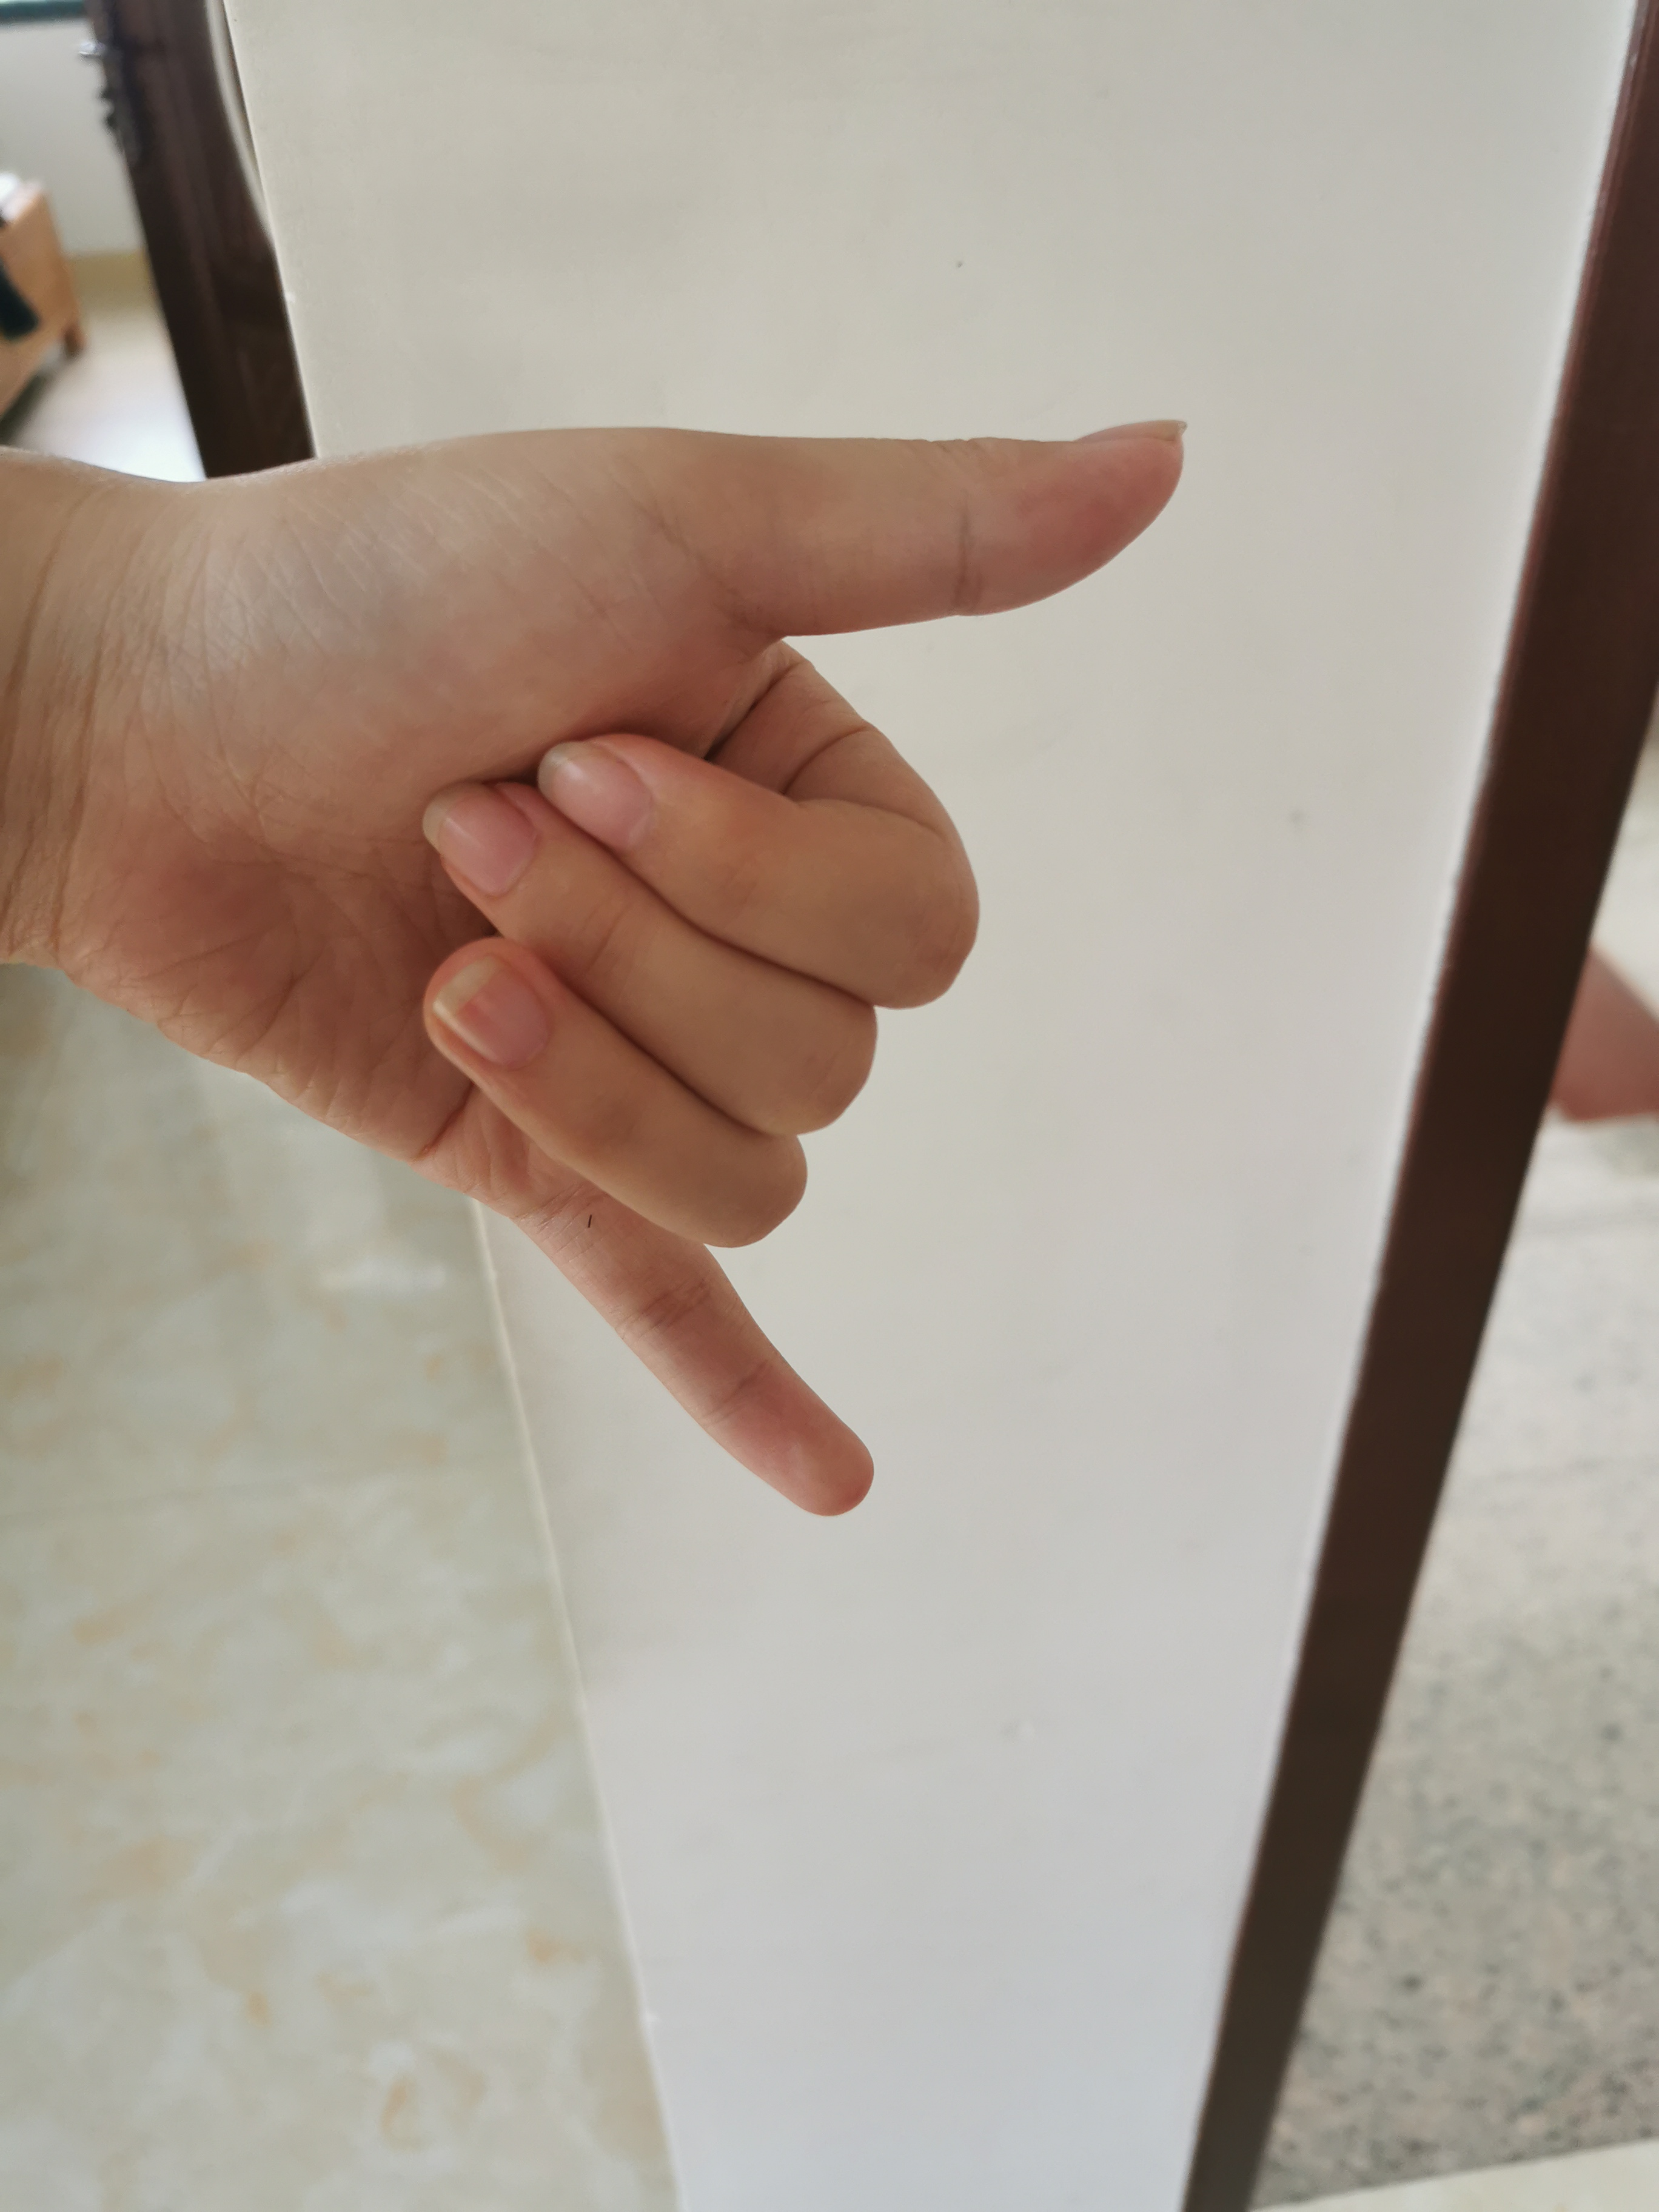clockwise: (30, 401, 1215, 1527)
